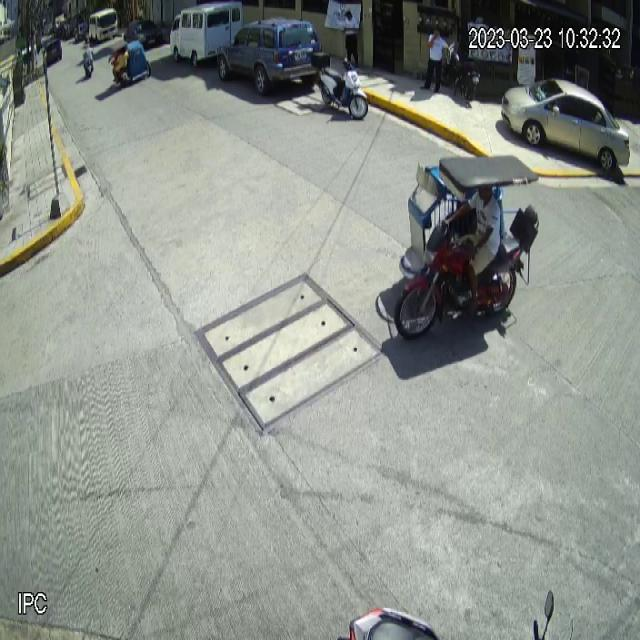Car: (500, 76, 631, 172), (216, 17, 323, 97)
Motorcycle: (310, 50, 369, 122)
Tricycle: (393, 153, 544, 347)
Van: (169, 0, 244, 69)
